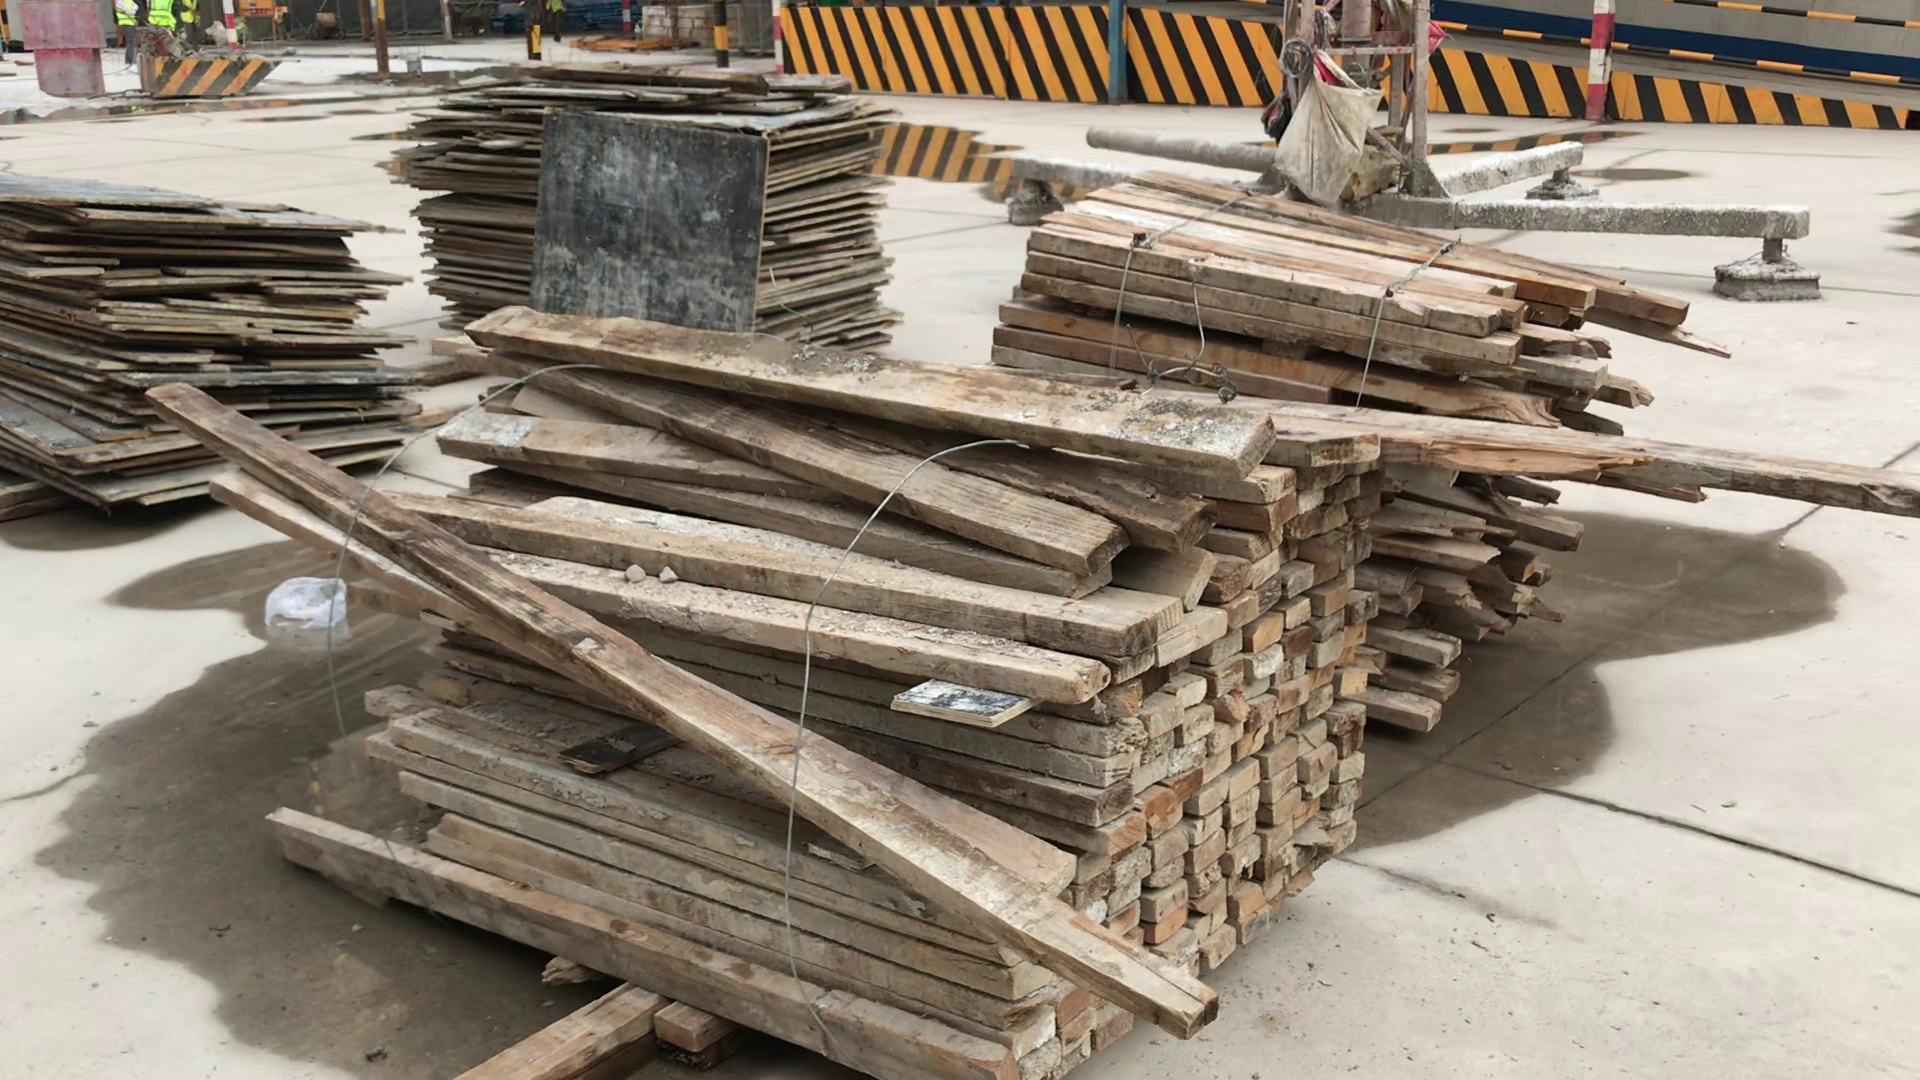board: (405, 61, 897, 357), (1, 177, 411, 502)
wood: (276, 297, 1393, 1076), (994, 166, 1677, 738)
